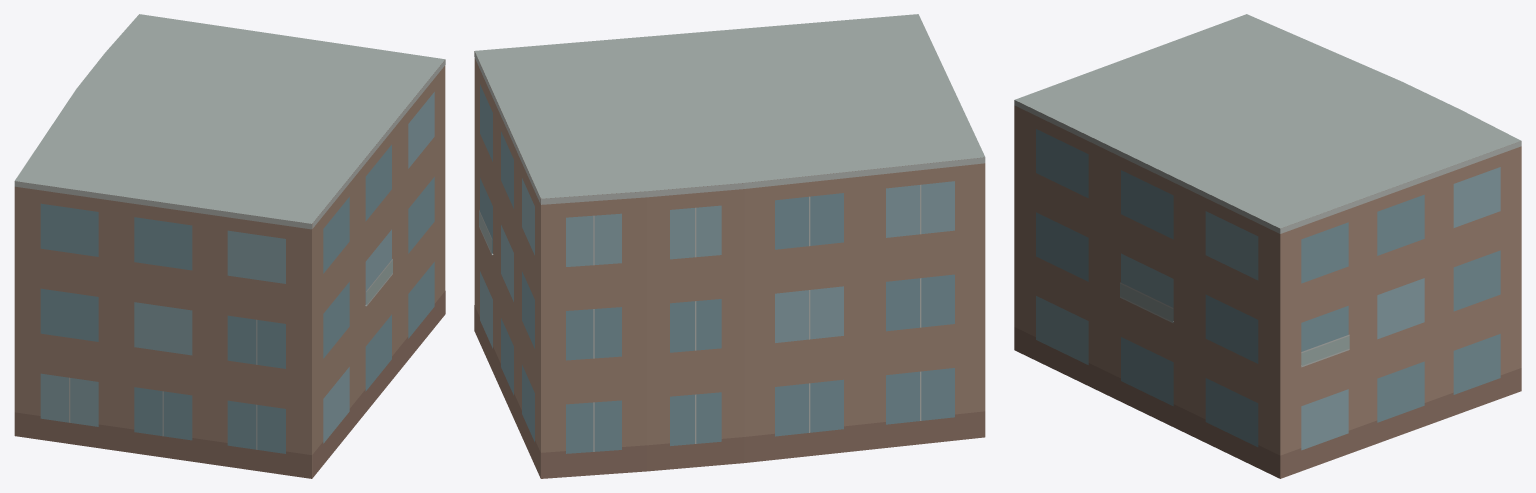
Rendered from survey-upis-32681832.glb.
The picture shows the model from 3 angles, left to right: view 1: azimuth 30°, elevation 25°; view 2: azimuth 150°, elevation 25°; view 3: azimuth 270°, elevation 25°; orthographic projection. The views are drawn at different scales.
Visible parts, largest first — view 1: survey-upis-32681832.tmp; view 2: survey-upis-32681832.tmp; view 3: survey-upis-32681832.tmp.
Boxes of the visible parts, x1=… form: survey-upis-32681832.tmp: x1=14, y1=14, x2=445, y2=478; survey-upis-32681832.tmp: x1=474, y1=14, x2=985, y2=478; survey-upis-32681832.tmp: x1=1014, y1=14, x2=1521, y2=478.
Bounding box in the file's own units: 20.6 × 11.2 × 20.57.
